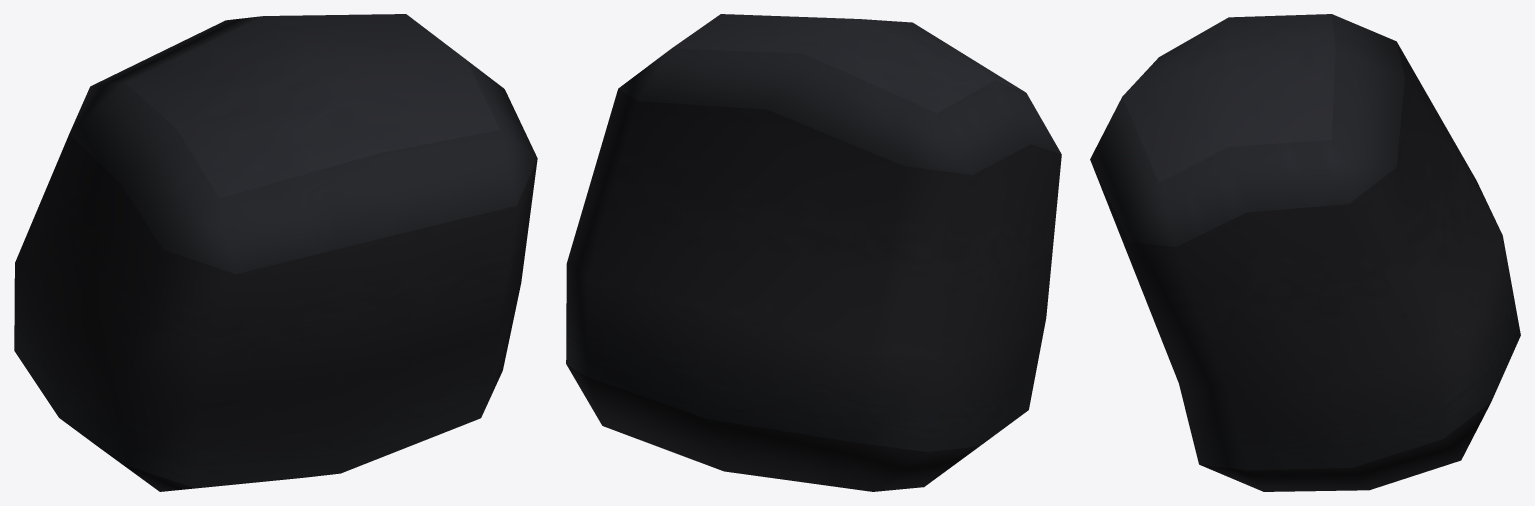
The model's file is hair_afro_lowhanging.fbx.
3 views of the same model, side by side, from view 1: azimuth 30°, elevation 25°; view 2: azimuth 150°, elevation 25°; view 3: azimuth 270°, elevation 25° (orthographic). The views are drawn at different scales.
Visible parts, largest first — view 1: hair_afro_lowhanging; view 2: hair_afro_lowhanging; view 3: hair_afro_lowhanging.
Boxes of the visible parts, x1,y1,x2,y2 form: hair_afro_lowhanging: [14, 14, 537, 491]; hair_afro_lowhanging: [566, 14, 1061, 491]; hair_afro_lowhanging: [1090, 14, 1520, 491].
Size of the model in its own units: 86.08 by 86.8 by 85.21.
